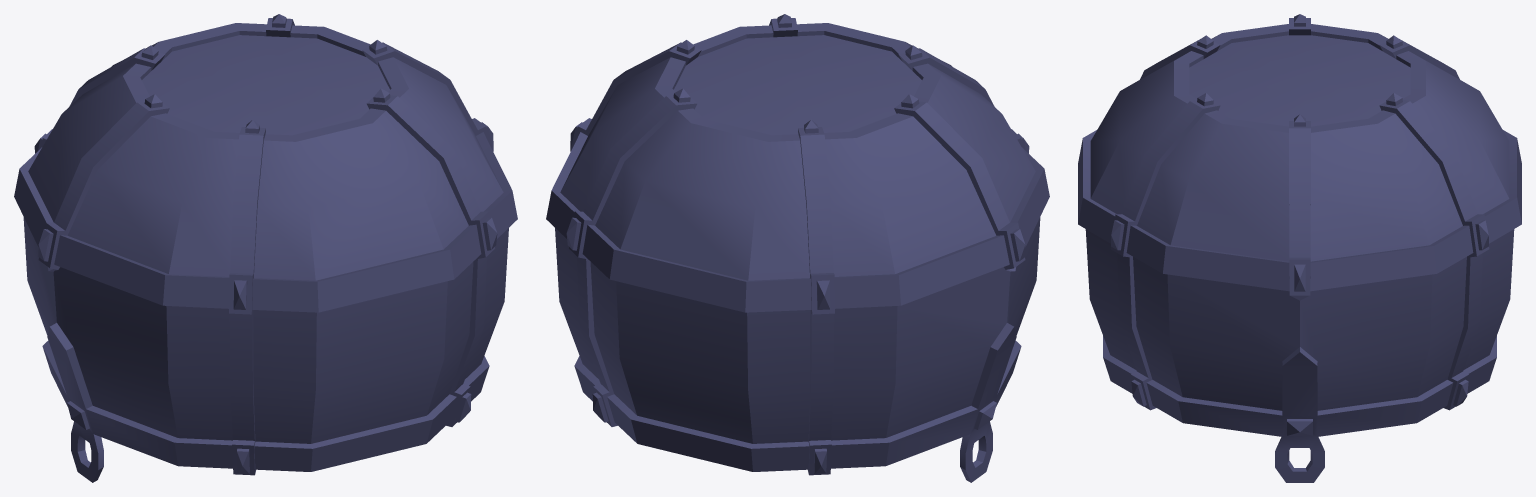
The model's file is cauldron.fbx.
3 renders of one model, left to right at view 1: azimuth 30°, elevation 25°; view 2: azimuth 150°, elevation 25°; view 3: azimuth 270°, elevation 25°, orthographic. The views are drawn at different scales.
Parts seen in each view (by area): view 1: Circle.003_Circle.002; view 2: Circle.003_Circle.002; view 3: Circle.003_Circle.002.
Boxes of the visible parts, <box> form: Circle.003_Circle.002: <box>14,14,517,482</box>; Circle.003_Circle.002: <box>546,14,1049,482</box>; Circle.003_Circle.002: <box>1078,14,1521,482</box>.
Bounding box in the file's own units: 204 × 157 × 187.
